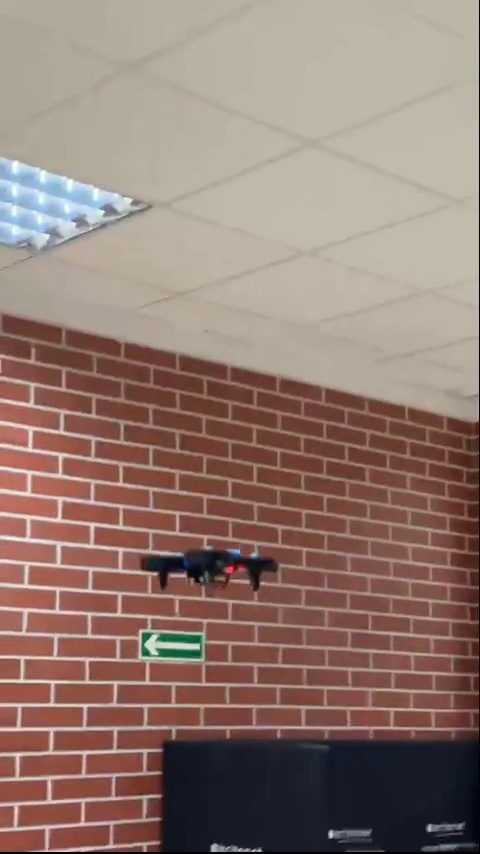drone: (134, 548, 282, 595)
